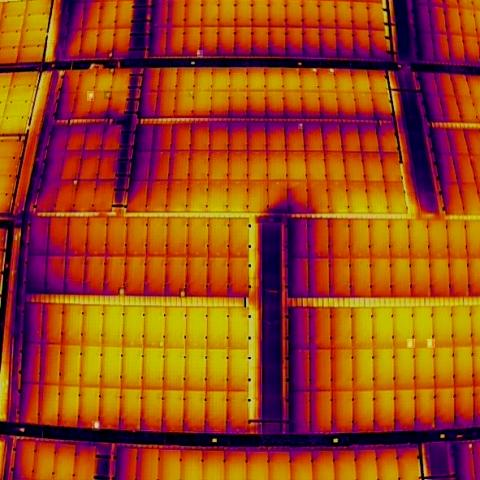fault: (179, 288, 188, 298), (92, 421, 100, 431), (72, 179, 80, 188), (408, 339, 416, 348), (428, 339, 436, 348), (107, 50, 114, 60), (87, 91, 94, 101), (118, 288, 125, 298), (104, 91, 112, 99), (158, 340, 165, 348), (310, 66, 318, 73), (328, 67, 336, 74), (109, 66, 115, 74), (197, 50, 203, 57), (298, 124, 304, 130), (189, 92, 194, 98)
